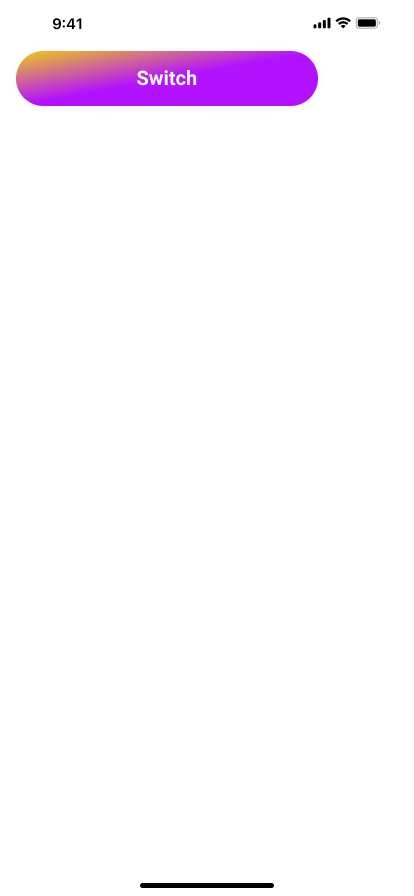Buttons: (8, 44, 326, 115)
Home Indicator: (0, 862, 414, 896)
Status Bar: (0, 0, 414, 44)
